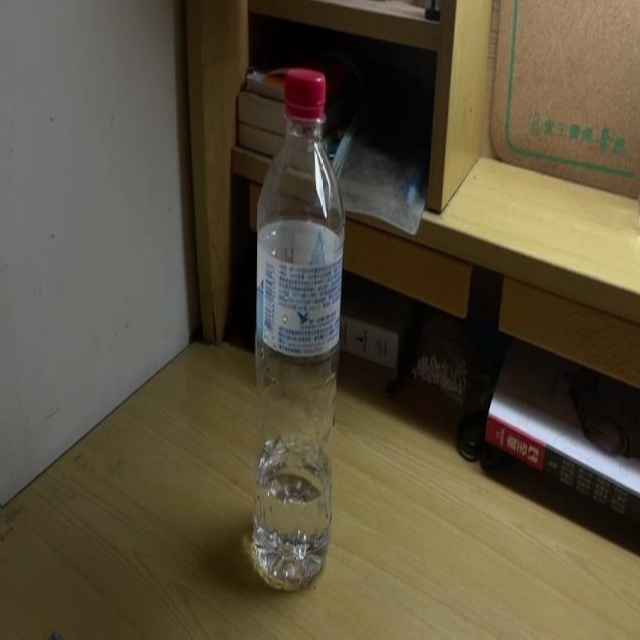Water: (253, 67, 339, 585)
